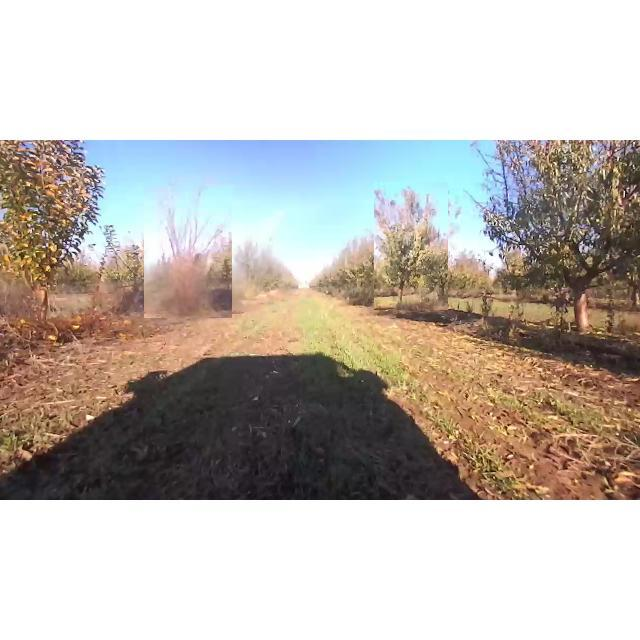tree: (460, 141, 640, 331), (0, 140, 110, 326), (144, 185, 232, 318), (374, 182, 448, 310)
